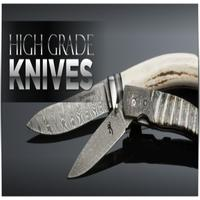knife: (25, 56, 187, 180)
